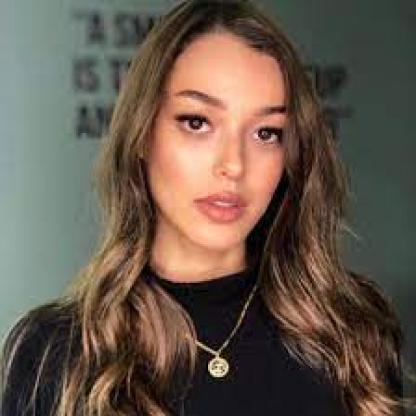person: (130, 13, 310, 251)
